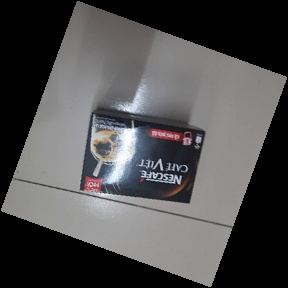CF Viet: (79, 106, 206, 205)
